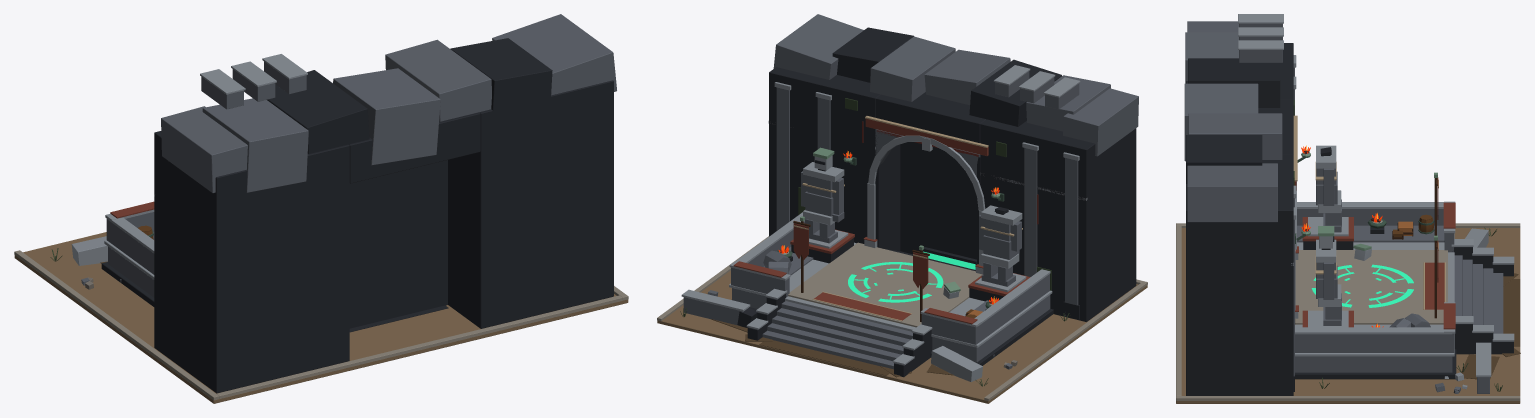
Rendered from 地下城入口.glb.
The picture shows the model from 3 angles, left to right: view 1: azimuth 30°, elevation 25°; view 2: azimuth 150°, elevation 25°; view 3: azimuth 270°, elevation 25°; orthographic projection. The views are drawn at different scales.
Visible parts, largest first — view 1: UC-ancient_dark, UC-ancient, UC-earth, UC-paving, UC-ancient_pale; view 2: UC-ancient_dark, UC-ancient, UC-ancient_pale, UC-paving, UC-earth, UC-team, UC-earth_dark, UC-depth_glow, UC-team_trim, UC-moss_dark, UC-bronze; view 3: UC-ancient_dark, UC-ancient, UC-ancient_pale, UC-paving, UC-earth, UC-team, UC-earth_dark, UC-depth_glow, UC-team_trim, UC-wood_dark, UC-bronze.
Boxes of the visible parts, x1,y1,x2,y2 form: UC-ancient_dark: [101, 38, 613, 393]; UC-ancient: [81, 14, 616, 297]; UC-earth: [14, 232, 628, 403]; UC-paving: [14, 250, 628, 400]; UC-ancient_pale: [71, 54, 307, 279]; UC-ancient_dark: [737, 27, 1136, 377]; UC-ancient: [683, 14, 1138, 369]; UC-ancient_pale: [681, 65, 1087, 381]; UC-paving: [657, 236, 1147, 400]; UC-earth: [657, 270, 1147, 403]; UC-team: [733, 118, 1030, 324]; UC-earth_dark: [711, 319, 953, 377]; UC-depth_glow: [848, 251, 975, 302]; UC-team_trim: [794, 116, 1022, 321]; UC-moss_dark: [680, 98, 1070, 386]; UC-bronze: [800, 147, 1000, 293]; UC-ancient_dark: [1186, 43, 1513, 395]; UC-ancient: [1184, 21, 1503, 393]; UC-ancient_pale: [1238, 14, 1514, 389]; UC-paving: [1176, 223, 1520, 400]; UC-earth: [1176, 228, 1520, 403]; UC-team: [1294, 177, 1455, 329]; UC-earth_dark: [1461, 273, 1520, 379]; UC-depth_glow: [1311, 264, 1413, 307]; UC-team_trim: [1293, 115, 1445, 309]; UC-wood_dark: [1392, 178, 1437, 318]; UC-bronze: [1301, 152, 1437, 250].
Size of the model in its own units: 14.6 by 9.18 by 12.17.
